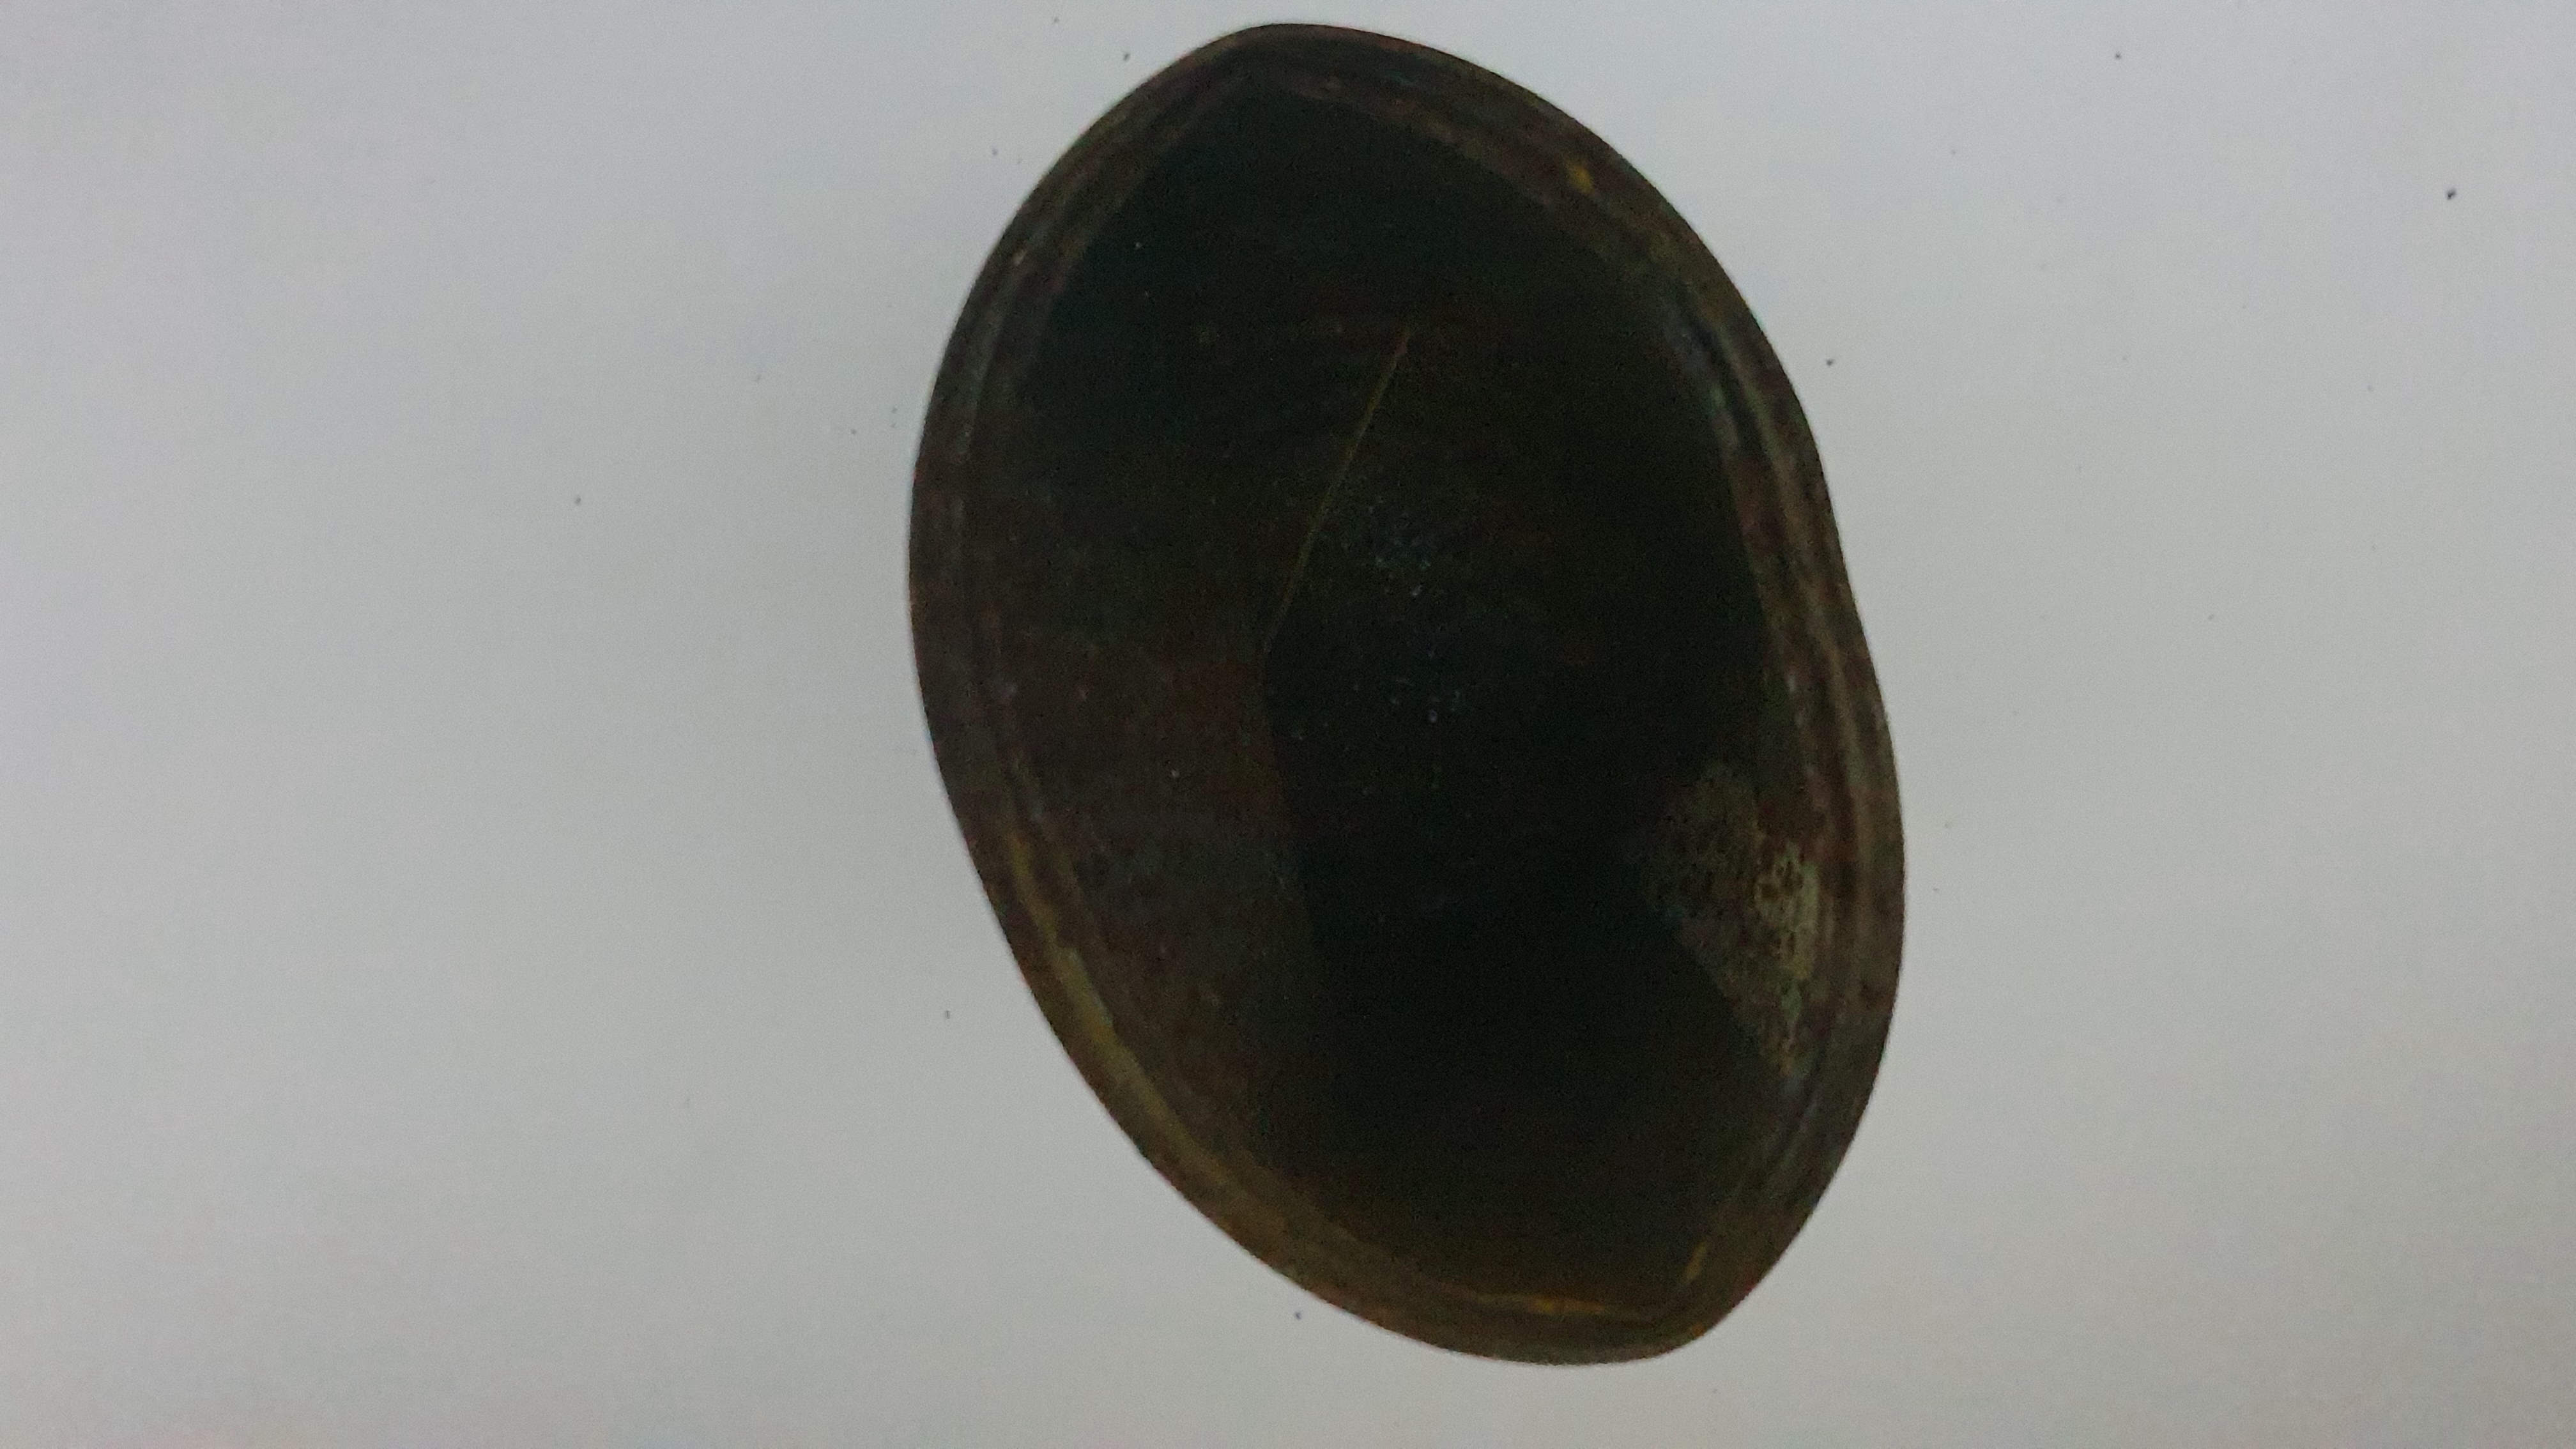metal: (872, 2, 1928, 1369)
